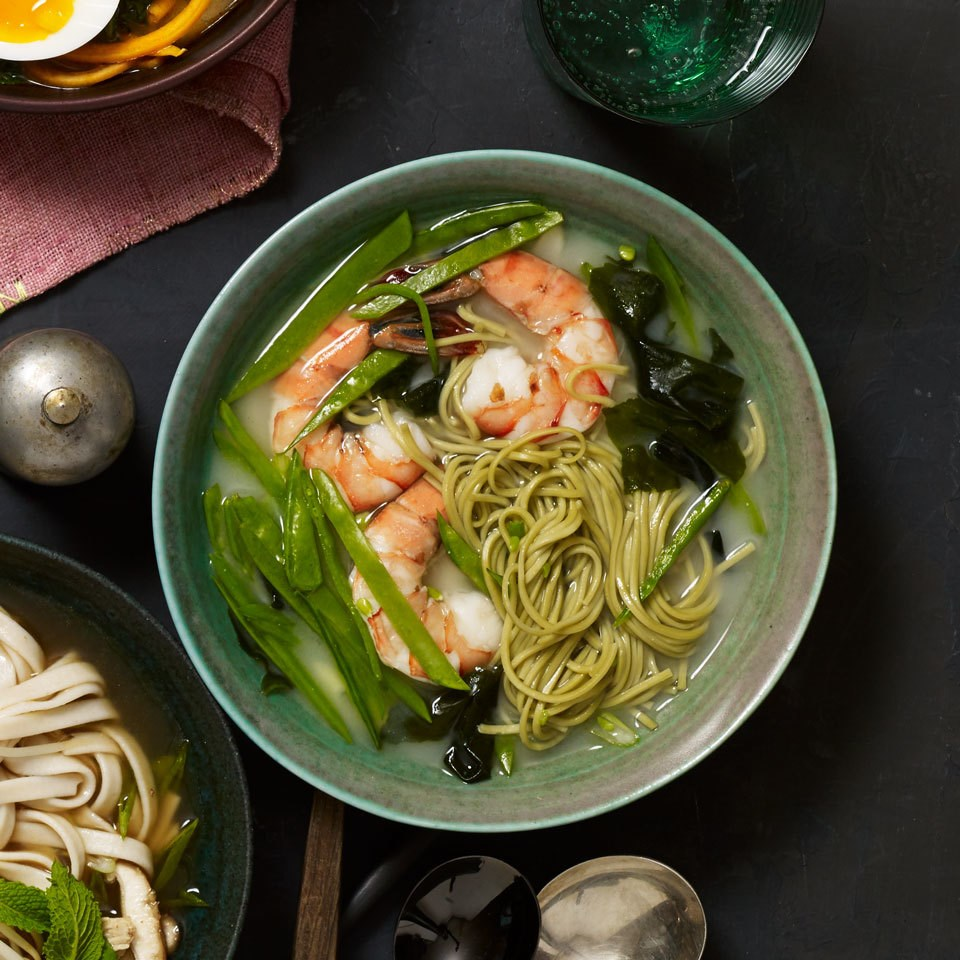Soba: (461, 421, 765, 766)
